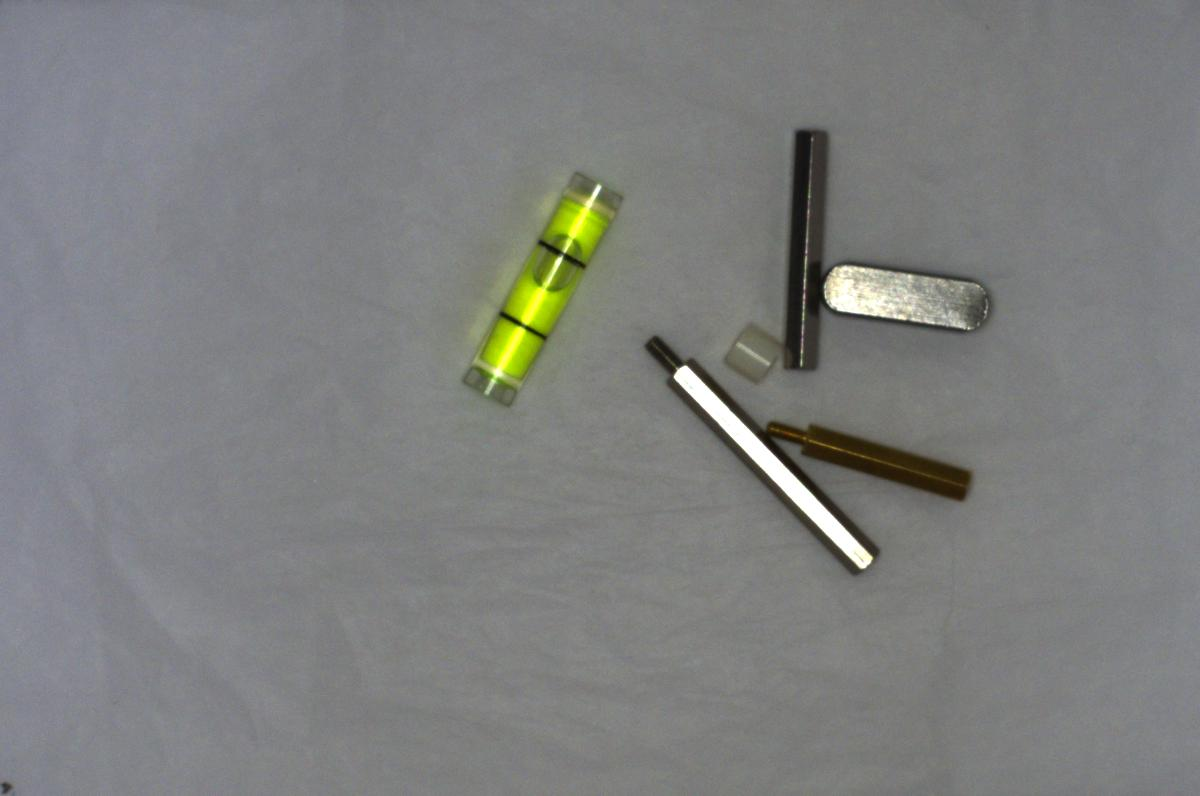Double hexagonal column: (780, 119, 841, 378)
Hexagon pillar: (766, 410, 985, 512)
Hexagonal steel column: (642, 326, 880, 573)
Horizontal bubble: (441, 150, 624, 418)
Keybar: (812, 253, 1000, 336)
Plastic cushion pillar: (712, 314, 787, 391)
